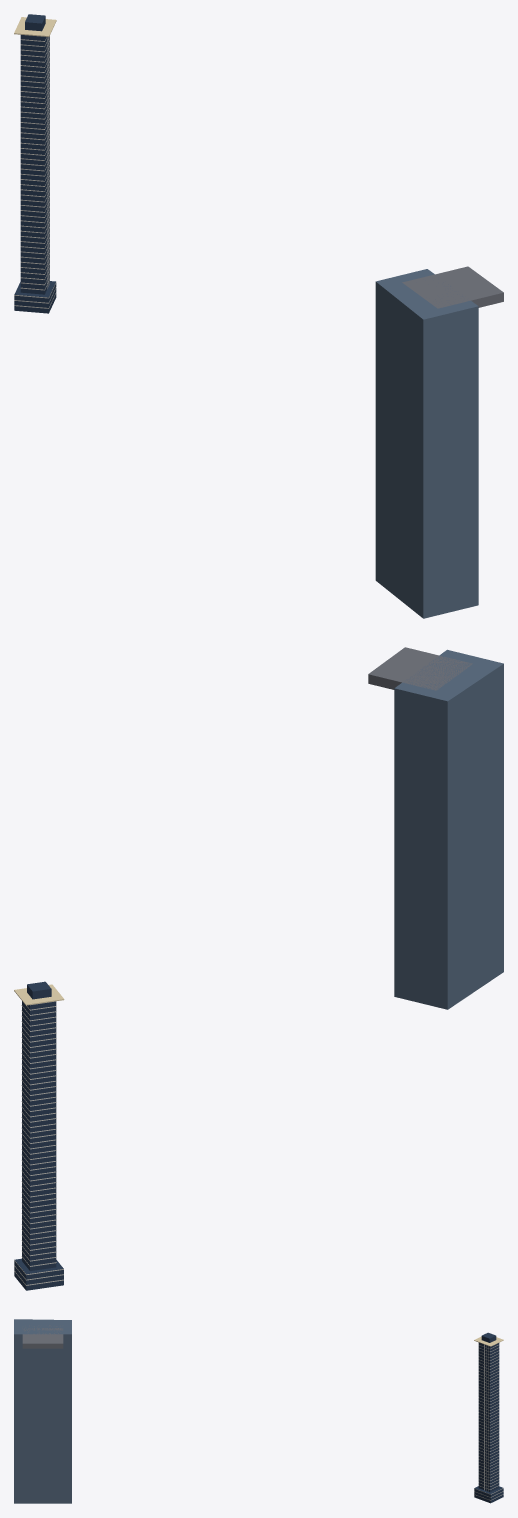
File: manazel-al-safa-tower.glb
The picture shows the model from 3 angles, top to bottom: view 1: azimuth 30°, elevation 25°; view 2: azimuth 150°, elevation 25°; view 3: azimuth 270°, elevation 25°; orthographic projection. The views are drawn at different scales.
Parts seen in each view (by area): view 1: vision_slab_-1, B_532853133_manazel-al-safa-tower, vision_crown; view 2: vision_slab_-1, B_532853133_manazel-al-safa-tower, vision_crown; view 3: vision_slab_-1, B_532853133_manazel-al-safa-tower, vision_crown.
Part boxes in pixels (<box>): vision_slab_-1: <box>375,269,478,618</box>; B_532853133_manazel-al-safa-tower: <box>14,14,56,313</box>; vision_crown: <box>402,266,503,308</box>; vision_slab_-1: <box>394,649,503,1009</box>; B_532853133_manazel-al-safa-tower: <box>14,981,63,1290</box>; vision_crown: <box>368,647,472,690</box>; vision_slab_-1: <box>14,1319,71,1503</box>; B_532853133_manazel-al-safa-tower: <box>474,1332,503,1503</box>; vision_crown: <box>22,1325,63,1348</box>.
Bounding box in the file's own units: 80.23 × 260 × 682.
